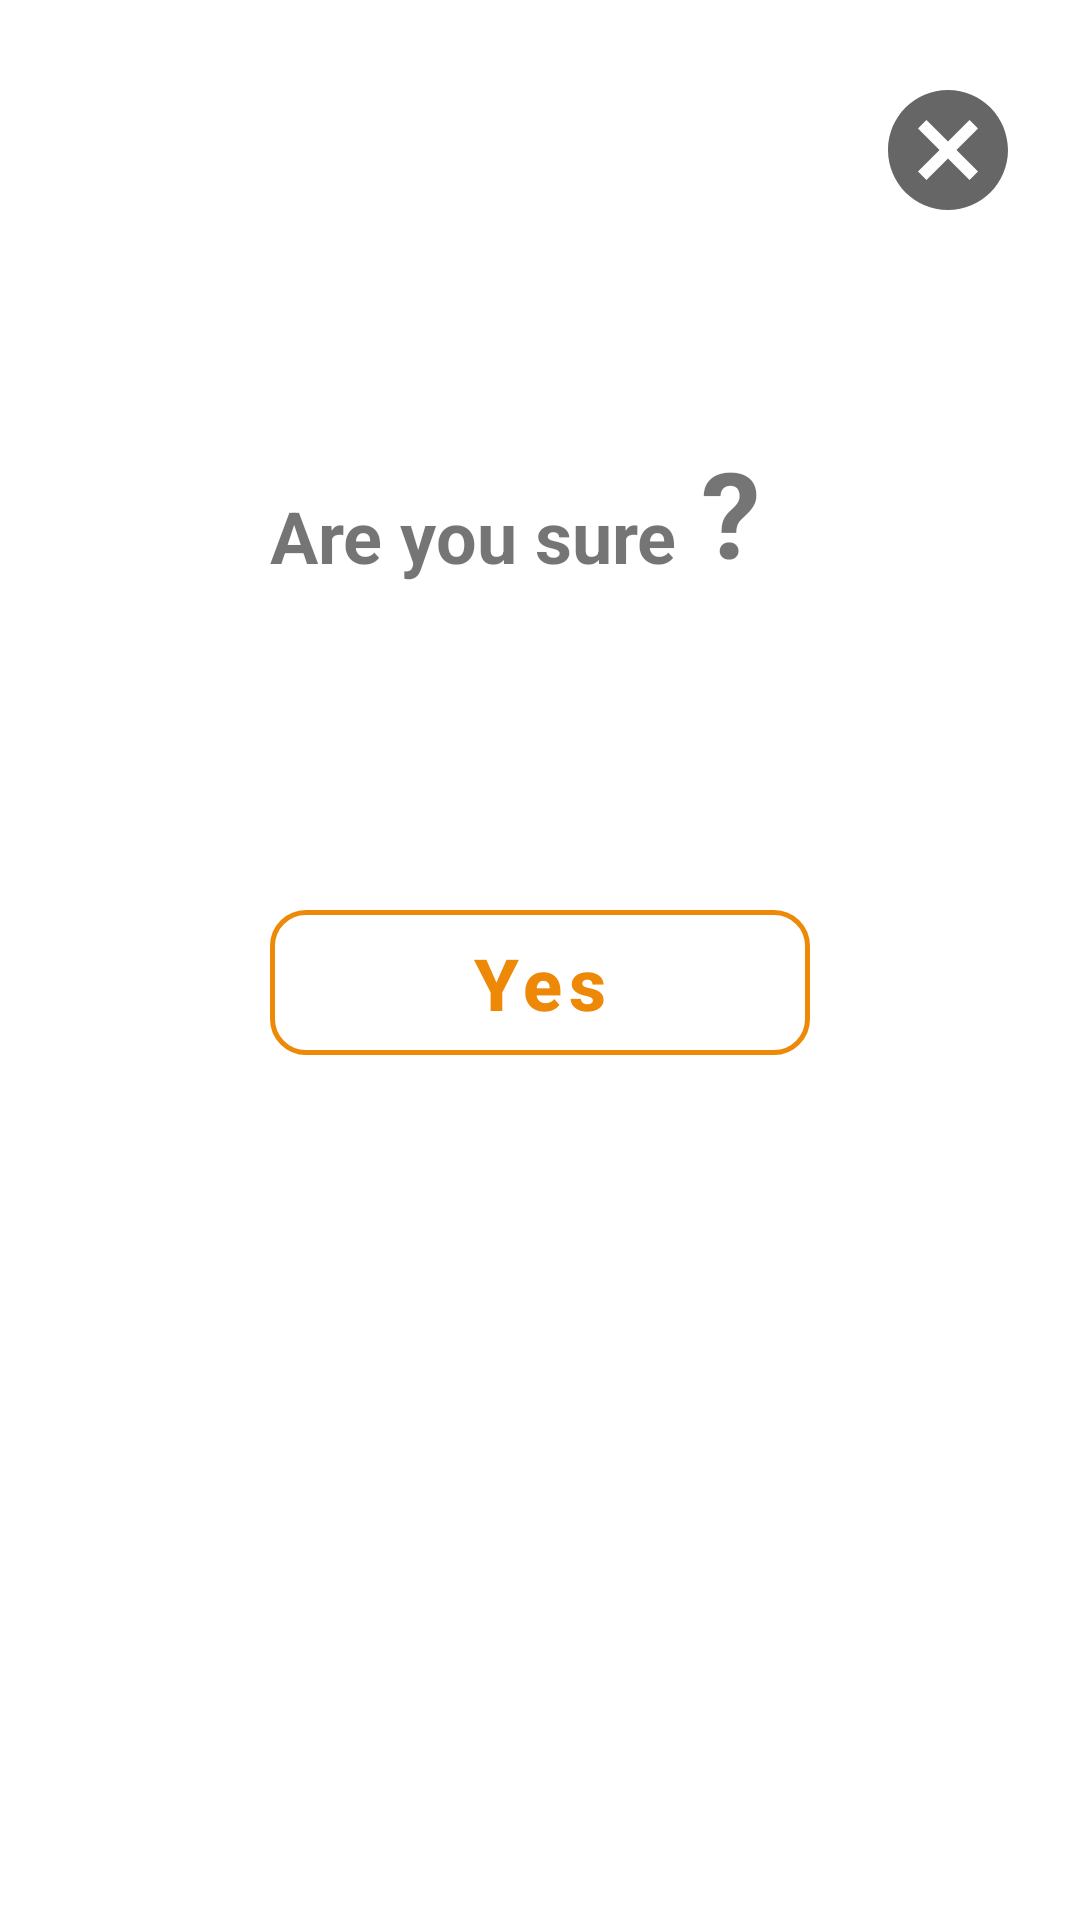

Screen size 1080px x 1920px. Icon name, then its box in pixels as (x1, y1, x2, y2):
cancel: (888, 90, 1008, 210)
